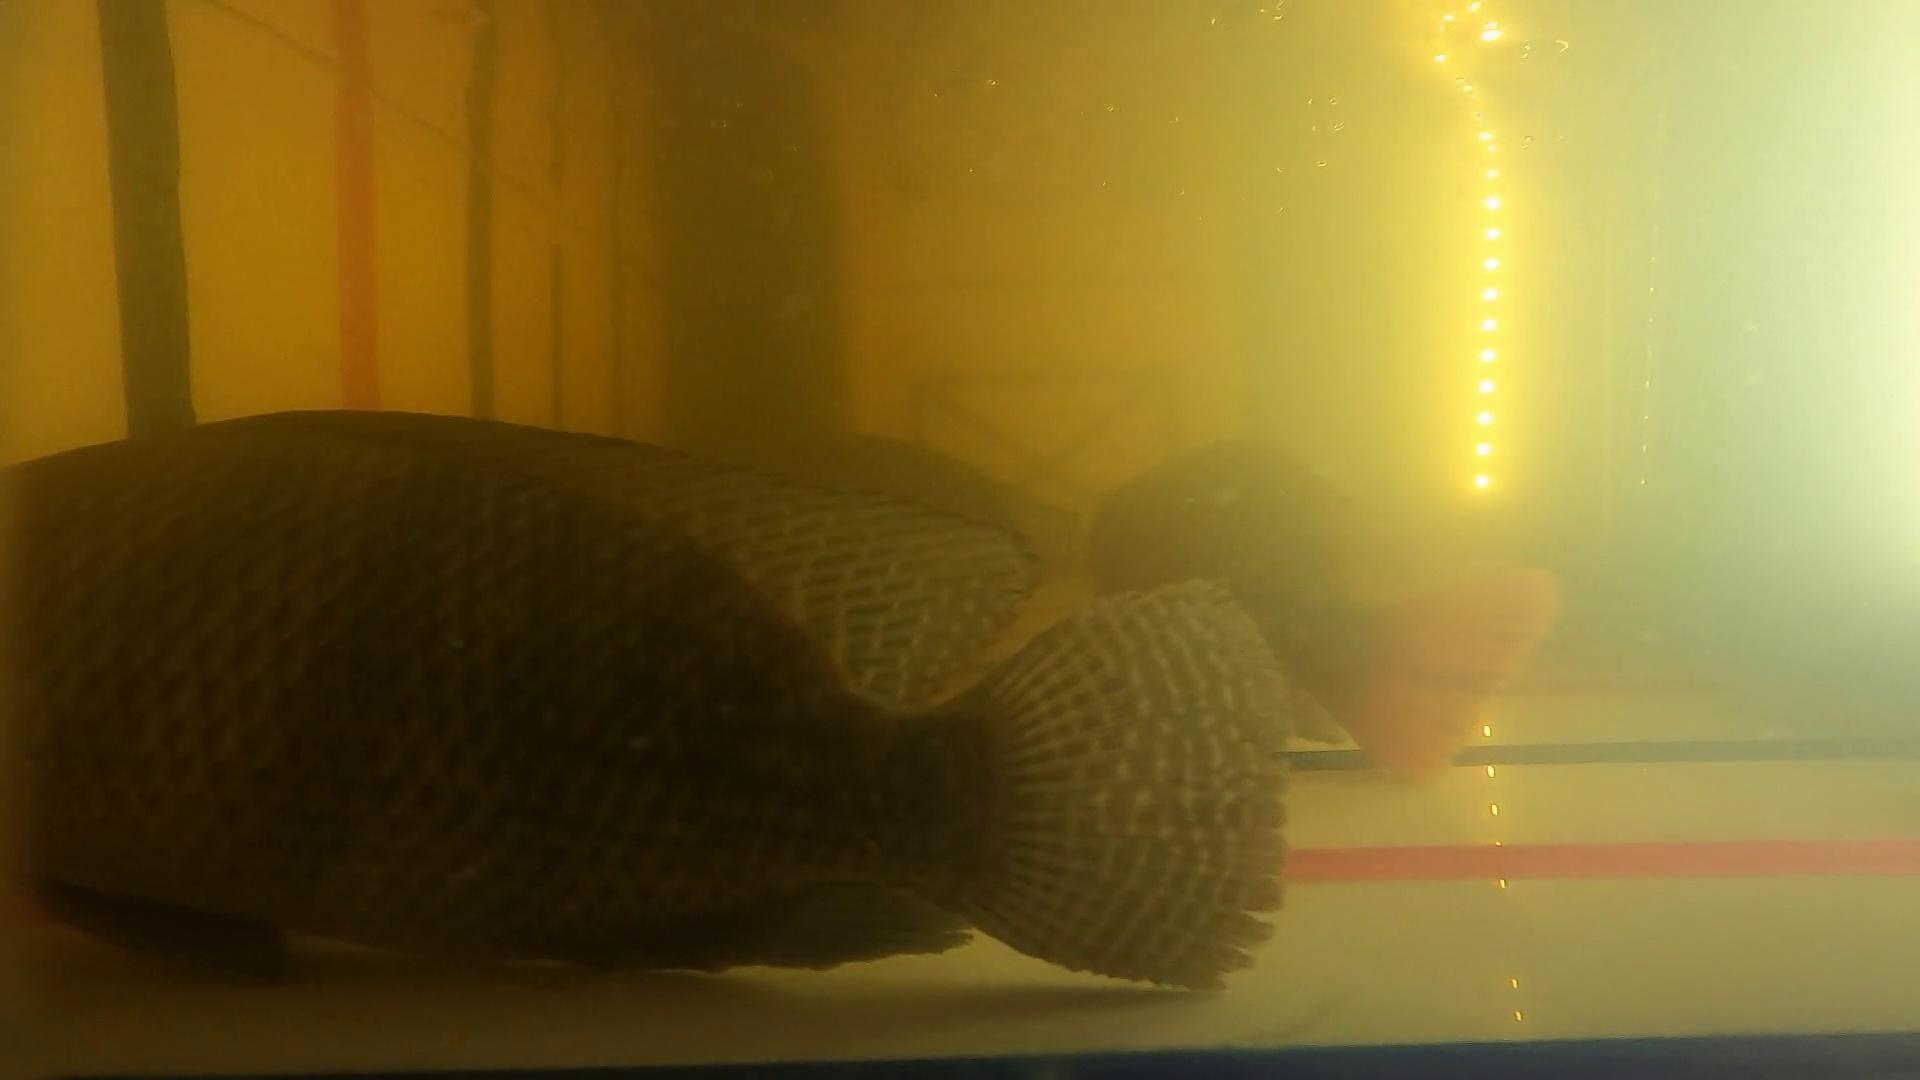Tilapia: (0, 413, 1338, 990)
